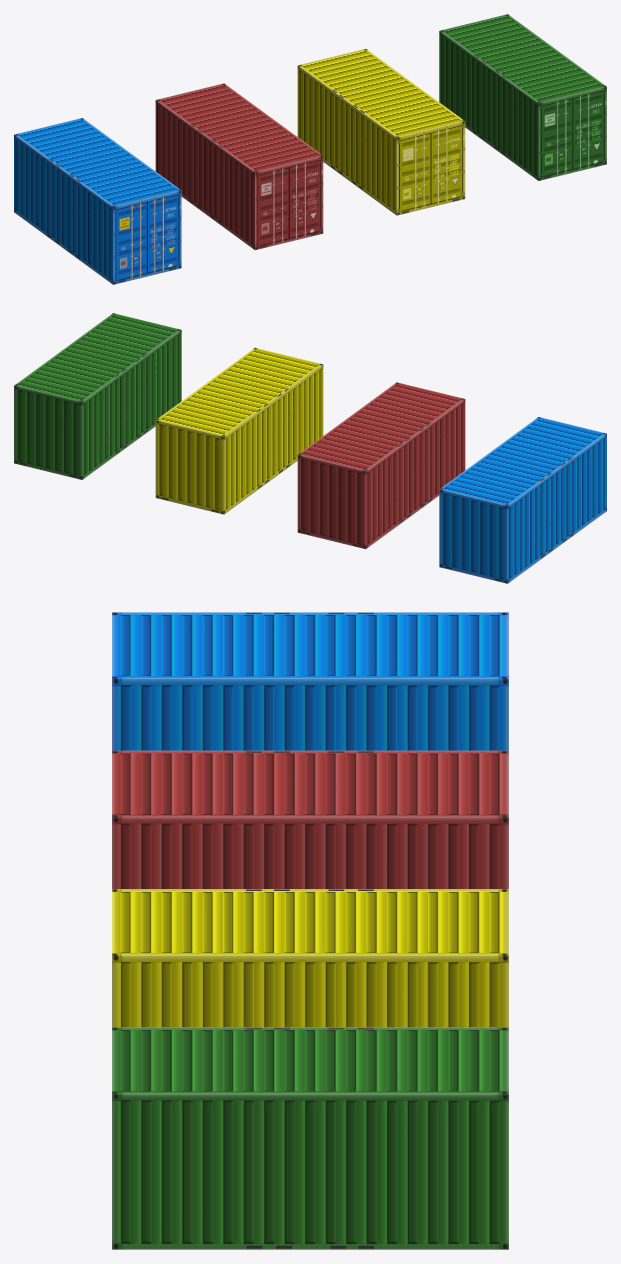
Rendered from all cont.fbx.
The picture shows the model from 3 angles, top to bottom: view 1: azimuth 30°, elevation 25°; view 2: azimuth 150°, elevation 25°; view 3: azimuth 270°, elevation 25°; orthographic projection. The views are drawn at different scales.
Parts seen in each view (by area): view 1: Blue, Yellow, Red, Green; view 2: Blue, Yellow, Red, Green; view 3: Green, Blue, Red, Yellow.
Part boxes in pixels (box(x1,y1,x2,y2)): Blue: box(14, 118, 181, 284); Yellow: box(297, 48, 465, 215); Red: box(155, 83, 323, 250); Green: box(439, 14, 606, 180); Blue: box(439, 417, 606, 583); Yellow: box(155, 347, 323, 514); Red: box(297, 382, 465, 549); Green: box(14, 313, 181, 479); Green: box(112, 1027, 508, 1249); Blue: box(112, 612, 508, 750); Red: box(112, 750, 508, 888); Yellow: box(112, 889, 508, 1027).
Size of the model in its own units: 1741 by 262 by 606.
Materials: 4 (4 with a texture image).
